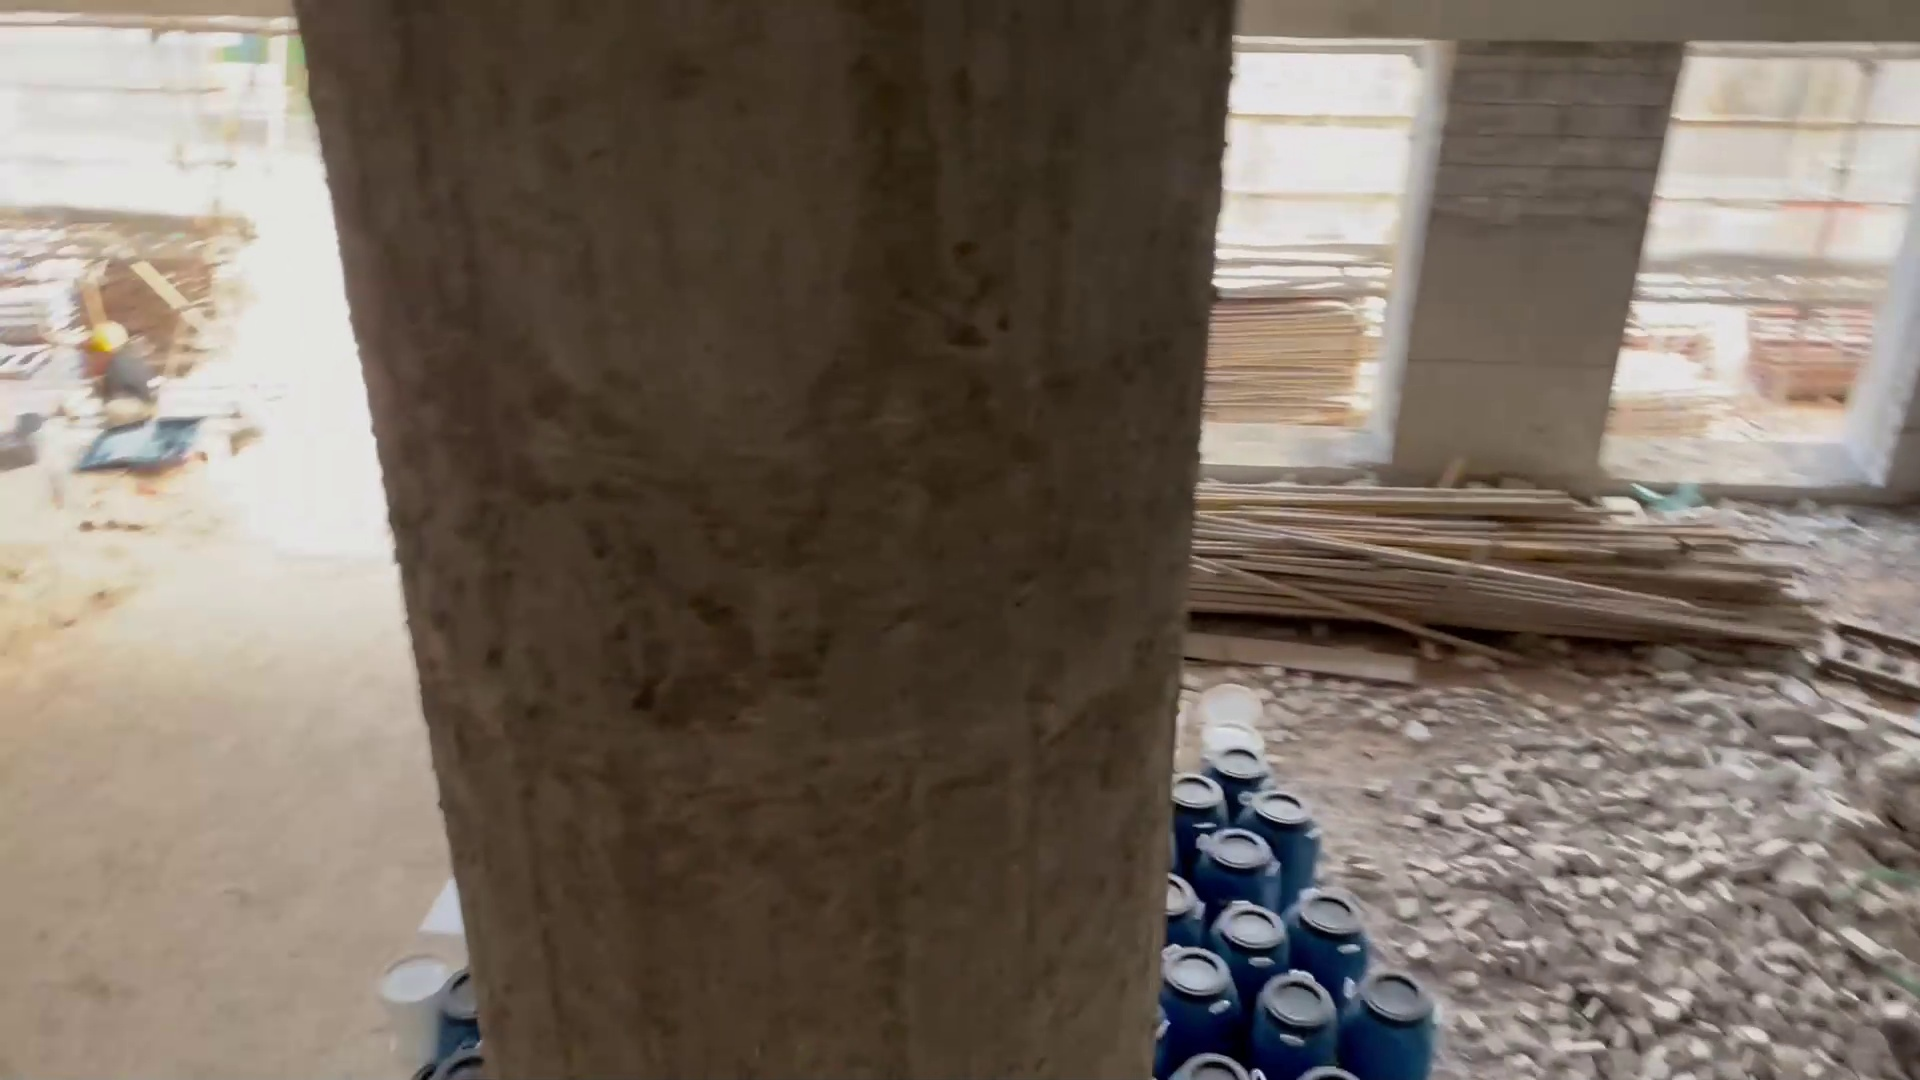board: (1220, 274, 1373, 417)
helmet: (84, 318, 133, 351)
person: (62, 304, 166, 445)
wood: (1201, 478, 1819, 665), (1618, 344, 1706, 433)
